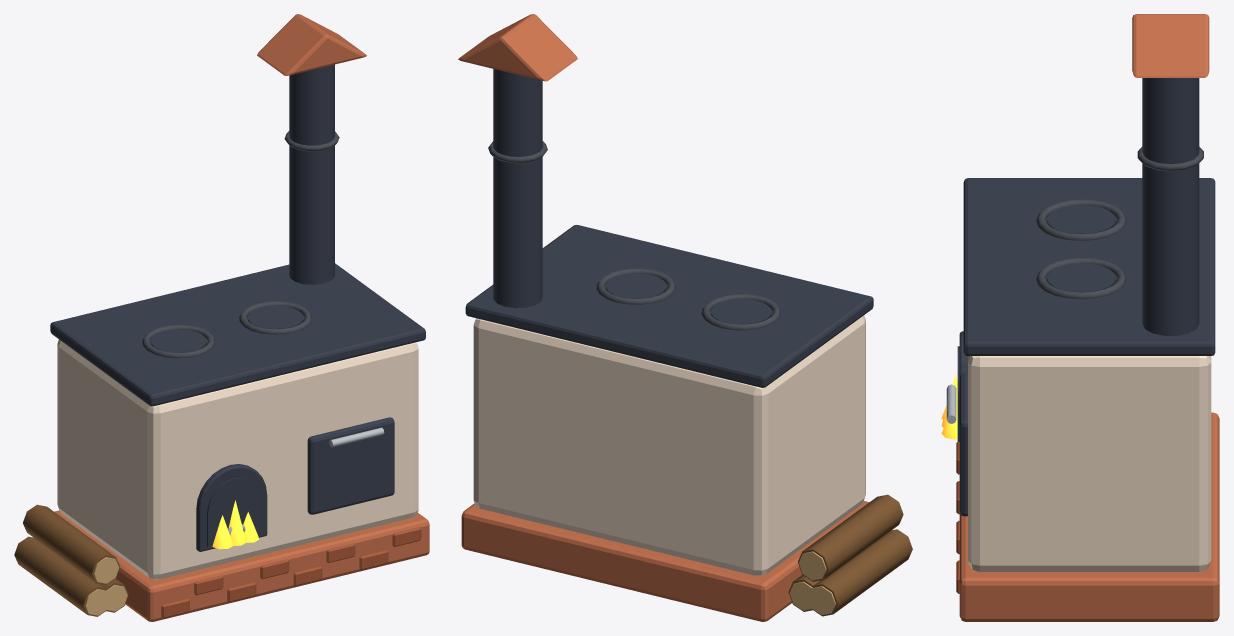
The model's file is fogao.glb.
The picture shows the model from 3 angles, left to right: view 1: azimuth 30°, elevation 25°; view 2: azimuth 150°, elevation 25°; view 3: azimuth 270°, elevation 25°; orthographic projection. The views are drawn at different scales.
Visible parts, largest first — view 1: fogao, fogo; view 2: fogao; view 3: fogao, fogo.
Part boxes in pixels (left/top/right/bottom): fogao: left=14, top=14, right=429, bottom=621; fogo: left=212, top=500, right=259, bottom=549; fogao: left=458, top=14, right=912, bottom=621; fogao: left=946, top=14, right=1219, bottom=621; fogo: left=941, top=375, right=957, bottom=439.
Size of the model in its own units: 1.18 by 1.6 by 0.685.
